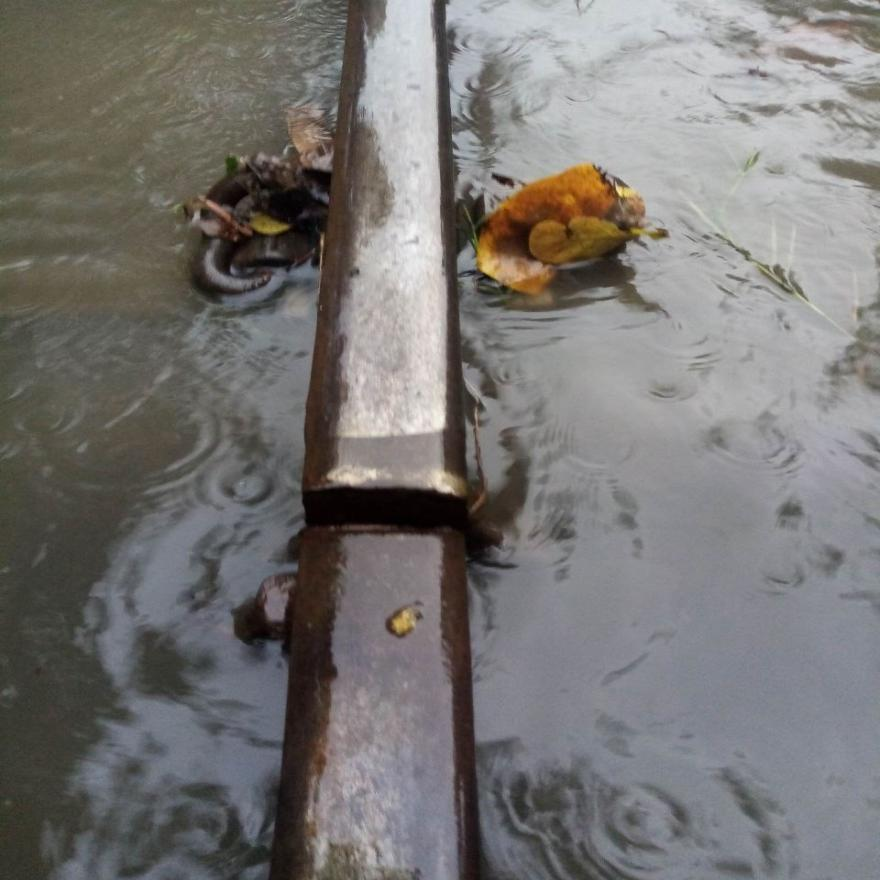railway-gap: (253, 415, 519, 610)
